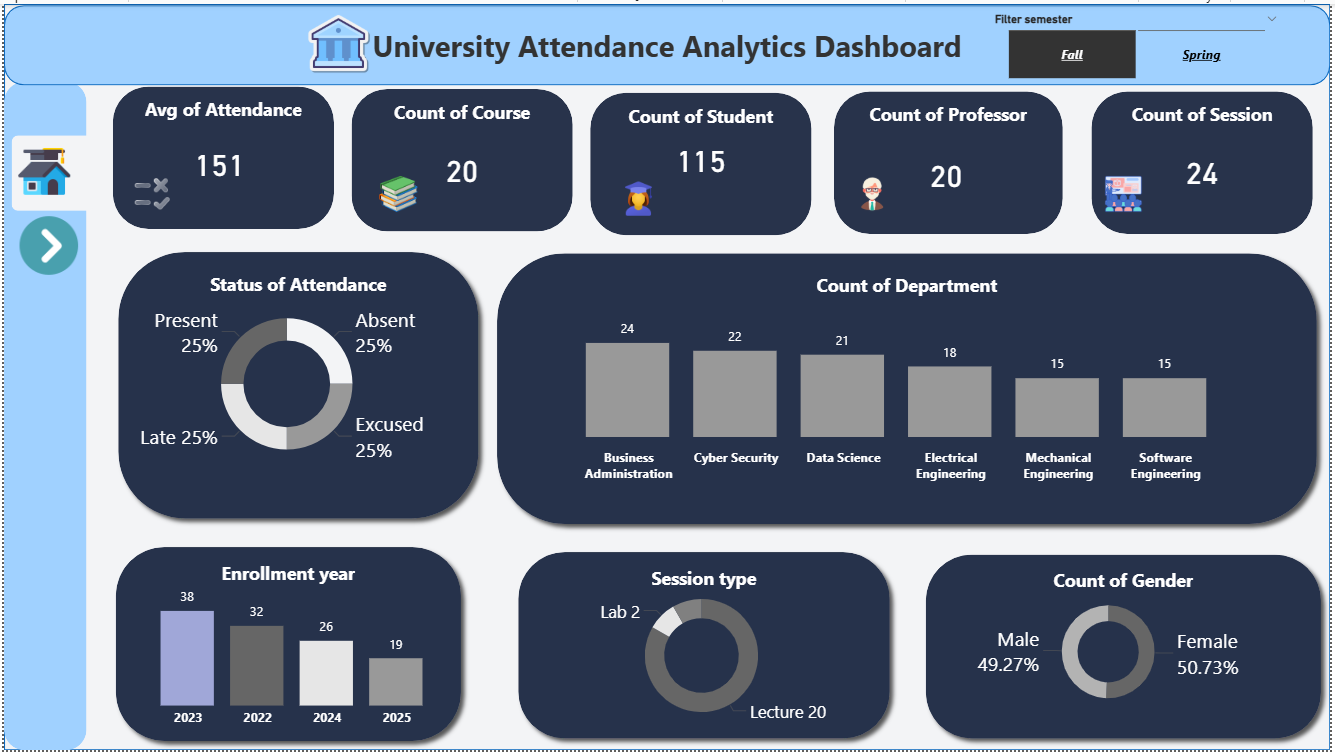

What the dashboard file says about the page in this screenshot:
{"tool":"powerbi","page":{"name":"dashboard 1","canvas":[1280,720],"ordinal":0},"visuals":[{"type":"shape","box":[0,0,1280.3,720.6],"z":0},{"type":"shape","title":"Cont","box":[565,53.2,213.5,137.5],"z":0,"group":"g3"},{"type":"shape","title":"Cont","box":[89.1,54.5,213.5,137.5],"z":0,"group":"g8"},{"type":"group","id":"g1","title":"Group 1","box":[324.4,54.5,214,138.3],"z":0,"group":"g2"},{"type":"shape","title":"Cont","box":[324.4,54.5,213.5,137.5],"z":0,"group":"g1"},{"type":"shape","title":"Cont","box":[799,54.5,220.8,137.5],"z":0,"group":"g7"},{"type":"shape","title":"Cont","box":[1035.7,54.5,213.5,137.5],"z":0,"group":"g5"},{"type":"shape","title":"Cont","box":[458.7,210.1,791,279.2],"z":0,"group":"g9"},{"type":"shape","title":"Cont","box":[89.1,211.4,352.3,277.9],"z":0,"group":"g10"},{"type":"shape","title":"Cont","box":[89.1,498.6,352.3,222],"z":0,"group":"g13"},{"type":"shape","title":"Cont","box":[458.7,498.6,378.9,222],"z":0,"group":"g12"},{"type":"shape","title":"Cont","box":[854.9,498.6,400.2,222],"z":0,"group":"g11"},{"type":"columnChart","fields":{"Y":["Count(dim_student.student_id)"],"Category":["dim_department.department_name"]},"box":[489.3,268.2,695.3,179.6],"z":5,"group":"g9"},{"type":"donutChart","fields":{"Category":["fact_attendance.attendance_status"],"Y":["Sum(dim_student.student_id)"]},"box":[103.7,262.2,309.8,176.3],"z":6,"group":"g10"},{"type":"donutChart","fields":{"Y":["CountNonNull(dim_session.day_of_week)"],"Category":["dim_session.session_type"]},"box":[479.1,536.8,333.1,168.8],"z":6,"group":"g12"},{"type":"donutChart","fields":{"Y":["Sum(dim_student.student_key)"],"Category":["dim_student.enrollment_year"]},"box":[109.2,537.2,319.9,168.8],"z":6,"group":"g13"},{"type":"donutChart","fields":{"Y":["Sum(dim_student.student_id)"],"Category":["dim_student.gender"]},"box":[865,545.6,351.8,140.8],"z":6,"group":"g11"},{"type":"group","id":"g2","title":"Group 6","box":[89.1,53.2,1165.9,667.4],"z":1000},{"type":"group","id":"g3","title":"Group 1","box":[565,53.2,213.5,137.5],"z":1000,"group":"g6"},{"type":"group","id":"g4","title":"Group 2","box":[799,54.5,222,155.5],"z":1000,"group":"g2"},{"type":"card","fields":{"Values":["Avg(fact_attendance.attendance_key)"]},"box":[137.7,78.7,109.5,101],"z":1000,"group":"g8"},{"type":"card","fields":{"Values":["CountNonNull(dim_course.course_id)"]},"box":[372.7,84.7,117,95.3],"z":1000,"group":"g1"},{"type":"card","fields":{"Values":["CountNonNull(dim_session.session_key)"]},"box":[1084,84.7,117,95.3],"z":1000,"group":"g5"},{"type":"shape","box":[0,0,1280.3,47.9],"z":2000},{"type":"group","id":"g5","title":"Group 1","box":[1035.7,54.5,214,138.3],"z":2000,"group":"g2"},{"type":"card","fields":{"Values":["CountNonNull(dim_student.student_id)"]},"box":[597.6,95.4,149.6,77.2],"z":2000,"group":"g6"},{"type":"shape","box":[0,47.9,79.8,672.7],"z":3000},{"type":"group","id":"g6","title":"Group 3","box":[565,53.2,214,138.3],"z":3000,"group":"g2"},{"type":"group","id":"g7","title":"Group 1","box":[799,54.5,220.8,137.5],"z":3000,"group":"g4"},{"type":"group","id":"g8","title":"Group 1","box":[89.1,54.5,214,138.3],"z":4000,"group":"g2"},{"type":"card","fields":{"Values":["Count(dim_professor.professor_key)"]},"box":[818.2,60.5,178.4,149.6],"z":4000,"group":"g4"},{"type":"shape","box":[6.6,126.3,79.8,73.1],"z":4000},{"type":"image","box":[13.3,138.3,53.2,54.5],"z":5000},{"type":"group","id":"g9","title":"Group 4","box":[458.7,210.1,791,279.2],"z":5000,"group":"g2"},{"type":"image","box":[6.6,203.4,66.5,58.5],"z":5002},{"type":"group","id":"g10","title":"Group 5","box":[89.1,211.4,352.3,277.9],"z":6000,"group":"g2"},{"type":"group","id":"g11","title":"Group 5","box":[854.9,498.6,400.2,222],"z":7000,"group":"g2"},{"type":"group","id":"g12","title":"Group 5","box":[458.7,498.6,378.9,222],"z":8000,"group":"g2"},{"type":"group","id":"g13","title":"Group 5","box":[89.1,498.6,352.3,222],"z":8001,"group":"g2"}]}

Visuals, with their boxes in screenshot pixels (x1, y1, x2, y2), scaled from the page's 1280x720 canvas onto the 1335x756 screenshot:
shape: [left=0, top=0, right=1334, bottom=755]
"Cont" shape: [left=589, top=56, right=812, bottom=200]
"Cont" shape: [left=93, top=57, right=316, bottom=202]
"Group 1" group: [left=338, top=57, right=562, bottom=202]
"Cont" shape: [left=338, top=57, right=561, bottom=202]
"Cont" shape: [left=833, top=57, right=1064, bottom=202]
"Cont" shape: [left=1080, top=57, right=1303, bottom=202]
"Cont" shape: [left=478, top=221, right=1303, bottom=514]
"Cont" shape: [left=93, top=222, right=460, bottom=514]
"Cont" shape: [left=93, top=524, right=460, bottom=755]
"Cont" shape: [left=478, top=524, right=874, bottom=755]
"Cont" shape: [left=892, top=524, right=1309, bottom=755]
columnChart - Count(dim_student.student_id) x dim_department.department_name: [left=510, top=282, right=1236, bottom=470]
donutChart - fact_attendance.attendance_status x Sum(dim_student.student_id): [left=108, top=275, right=431, bottom=460]
donutChart - CountNonNull(dim_session.day_of_week) x dim_session.session_type: [left=500, top=564, right=847, bottom=741]
donutChart - Sum(dim_student.student_key) x dim_student.enrollment_year: [left=114, top=564, right=448, bottom=741]
donutChart - Sum(dim_student.student_id) x dim_student.gender: [left=902, top=573, right=1269, bottom=721]
"Group 6" group: [left=93, top=56, right=1309, bottom=755]
"Group 1" group: [left=589, top=56, right=812, bottom=200]
"Group 2" group: [left=833, top=57, right=1065, bottom=220]
card - Avg(fact_attendance.attendance_key): [left=144, top=83, right=258, bottom=189]
card - CountNonNull(dim_course.course_id): [left=389, top=89, right=511, bottom=189]
card - CountNonNull(dim_session.session_key): [left=1131, top=89, right=1253, bottom=189]
shape: [left=0, top=0, right=1334, bottom=50]
"Group 1" group: [left=1080, top=57, right=1303, bottom=202]
card - CountNonNull(dim_student.student_id): [left=623, top=100, right=779, bottom=181]
shape: [left=0, top=50, right=83, bottom=755]
"Group 3" group: [left=589, top=56, right=812, bottom=201]
"Group 1" group: [left=833, top=57, right=1064, bottom=202]
"Group 1" group: [left=93, top=57, right=316, bottom=202]
card - Count(dim_professor.professor_key): [left=853, top=64, right=1039, bottom=221]
shape: [left=7, top=133, right=90, bottom=209]
image: [left=14, top=145, right=69, bottom=202]
"Group 4" group: [left=478, top=221, right=1303, bottom=514]
image: [left=7, top=214, right=76, bottom=275]
"Group 5" group: [left=93, top=222, right=460, bottom=514]
"Group 5" group: [left=892, top=524, right=1309, bottom=755]
"Group 5" group: [left=478, top=524, right=874, bottom=755]
"Group 5" group: [left=93, top=524, right=460, bottom=755]
